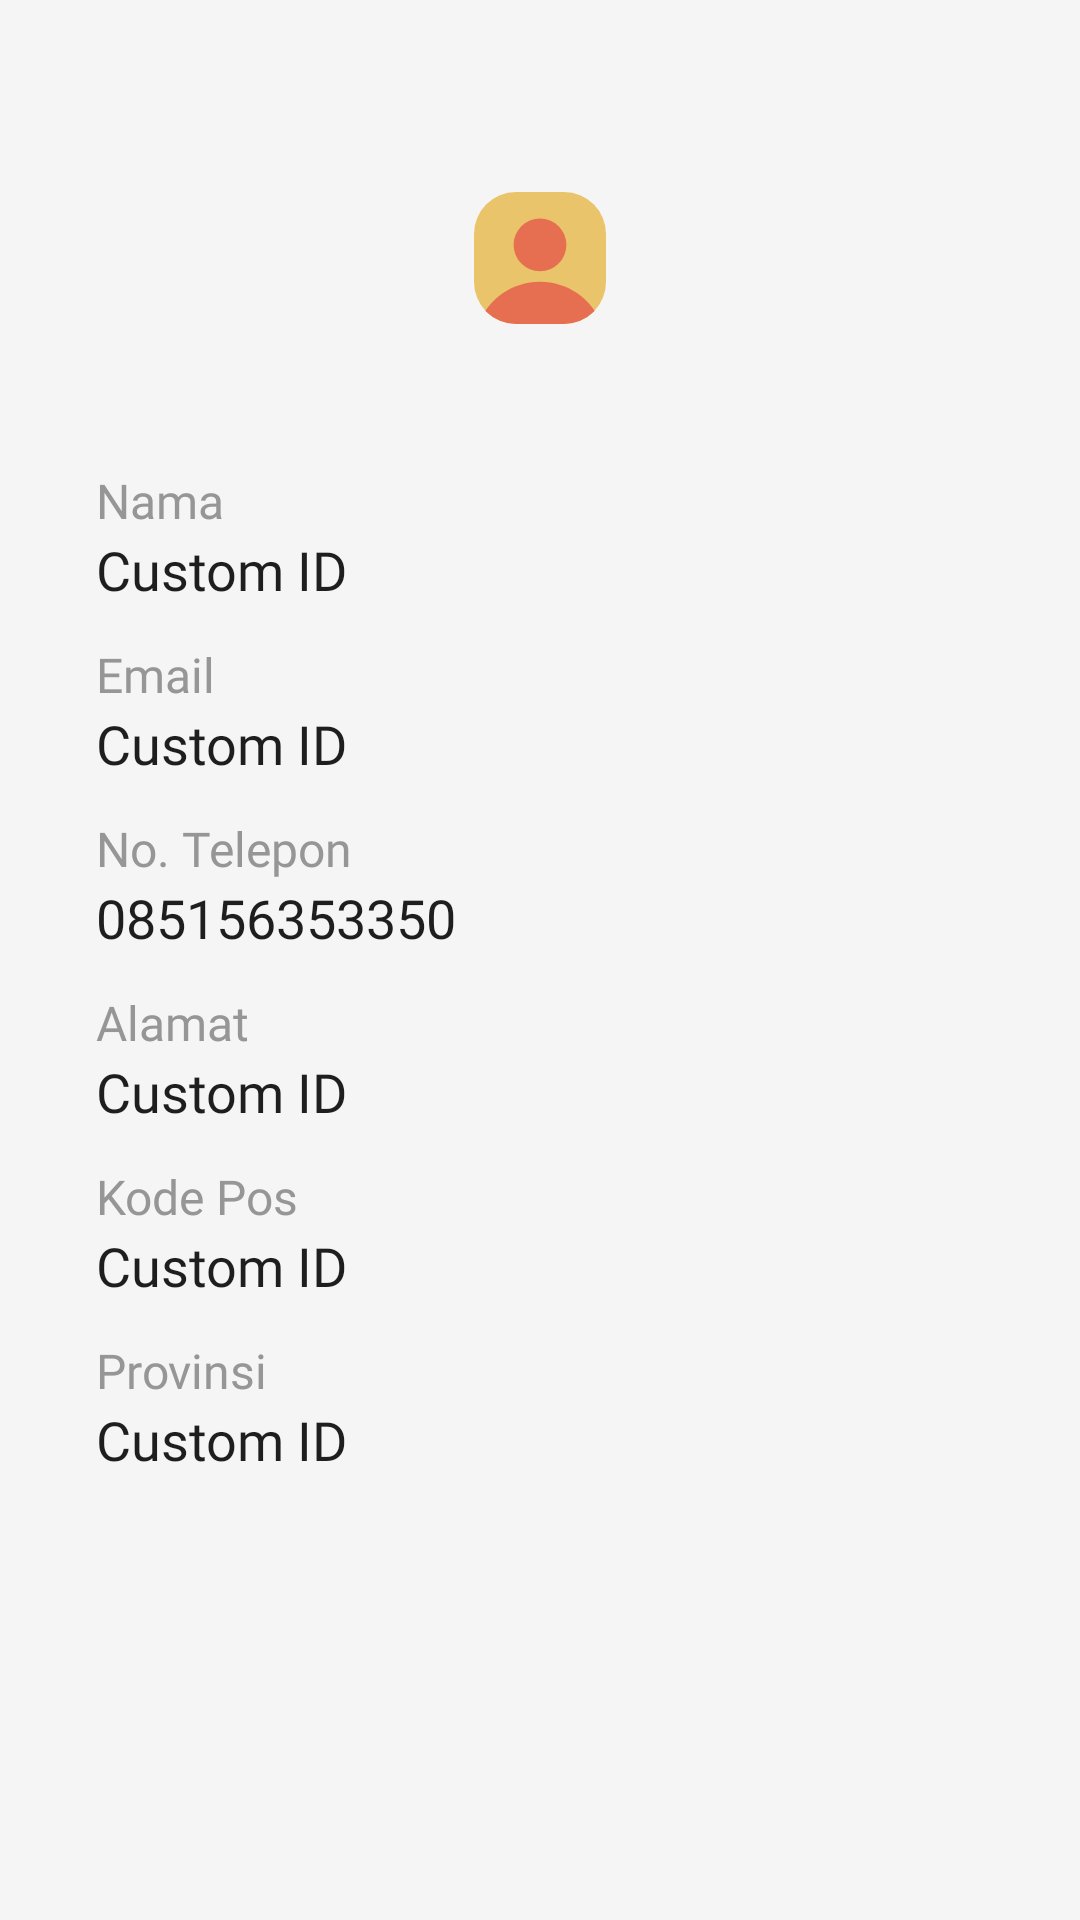

Icon bounding boxes for this 1080 × 1920 phone screenshot, format bbox=[x1, y1, x2, y2]:
pic profile: bbox=[474, 192, 606, 324]
